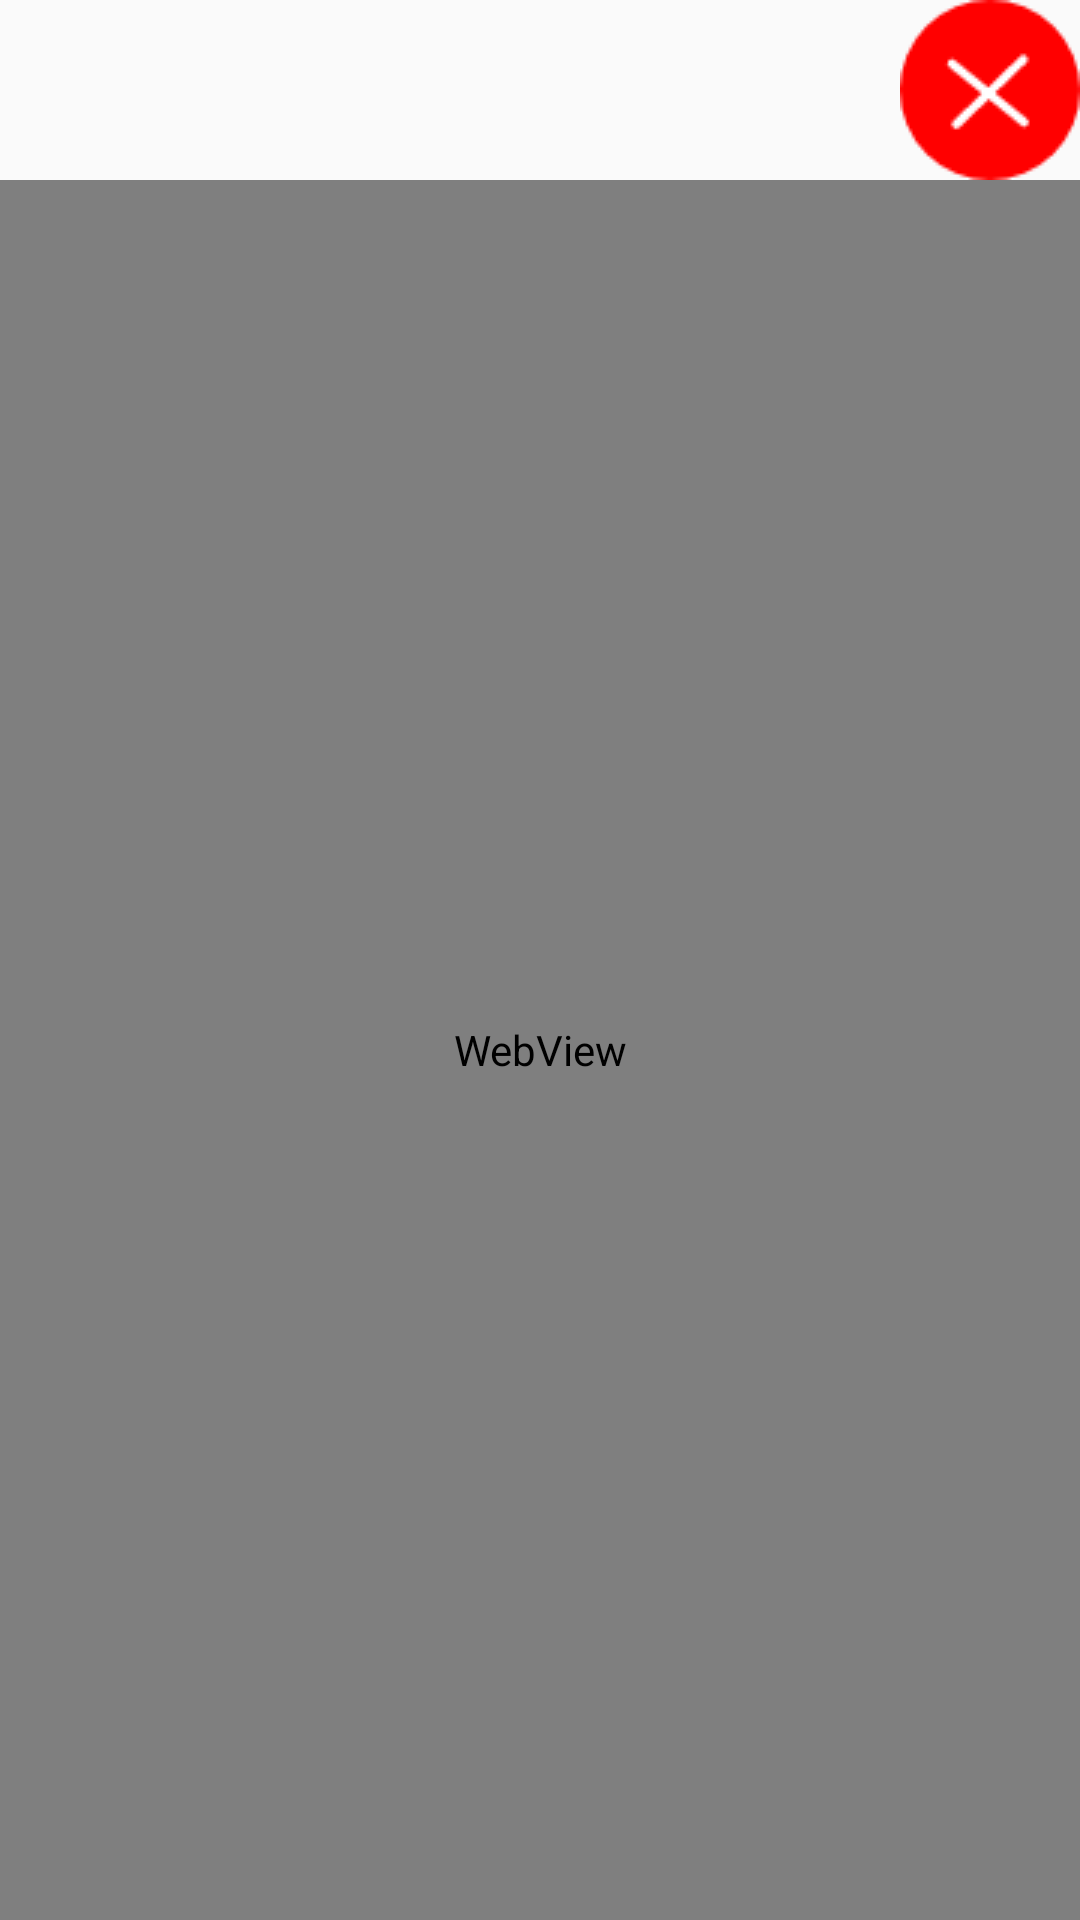

Point at icon controls on the screen. Image size 1080px x 1920px, points as point (x, y).
cross: point (990, 90)
